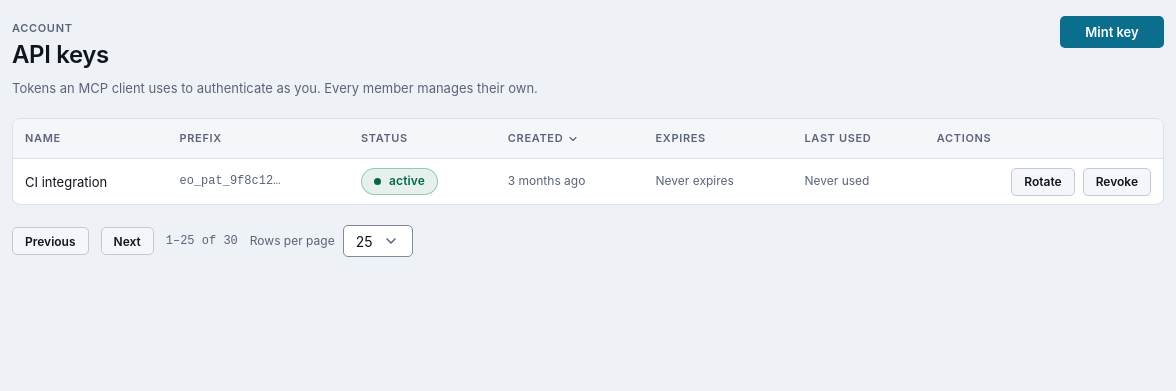
it: ApiKeysPage › keeps already-loaded rows on screen when a refresh fails
Check: the text "CI integration" is shown, box [13, 159, 168, 204]
Click the button "Next": [127, 241] box [100, 227, 154, 255]
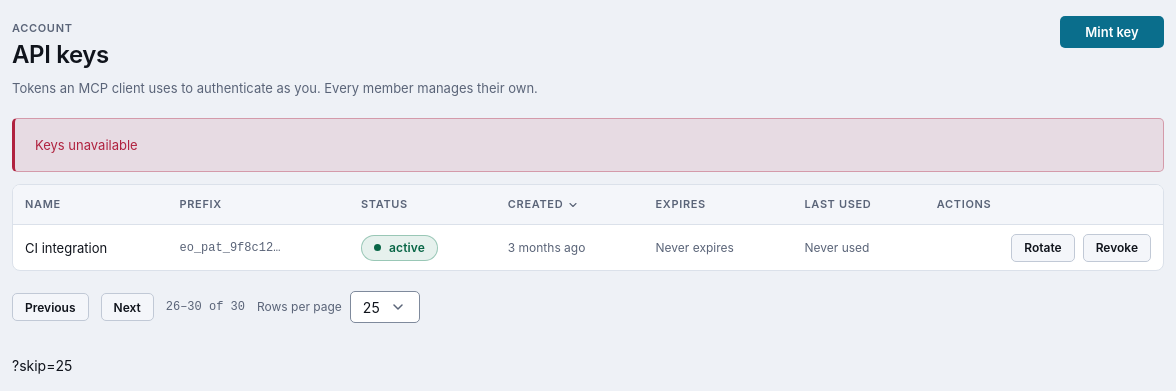
Check: the text "CI integration" is shown, box [13, 225, 168, 270]
Check: the message reads "Keys unavailable", box [35, 137, 138, 153]
